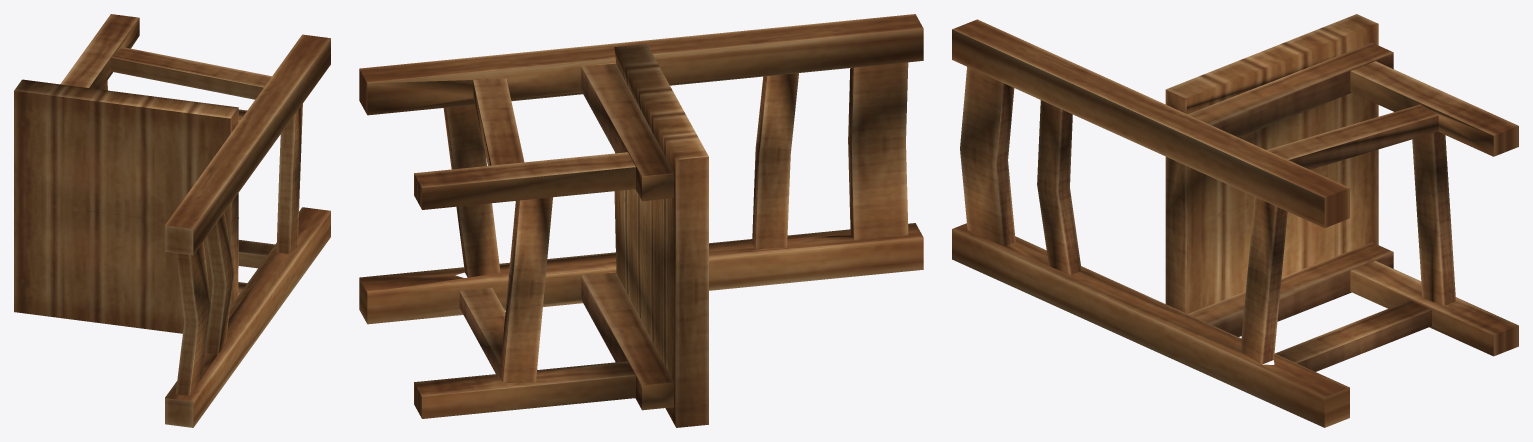
File: c_SWGchair04b03.glb
3 renders of one model, left to right at view 1: azimuth 30°, elevation 25°; view 2: azimuth 150°, elevation 25°; view 3: azimuth 270°, elevation 25°, orthographic. The views are drawn at different scales.
Visible parts, largest first — view 1: c_SWGchair04b03; view 2: c_SWGchair04b03; view 3: c_SWGchair04b03.
Part boxes in pixels (x1=…): c_SWGchair04b03: x1=14, y1=14, x2=330, y2=427; c_SWGchair04b03: x1=359, y1=14, x2=923, y2=427; c_SWGchair04b03: x1=952, y1=14, x2=1518, y2=427.
Bounding box in the file's own units: 0.7629 × 0.5103 × 1.02.
Materials: 1 (1 with a texture image).
